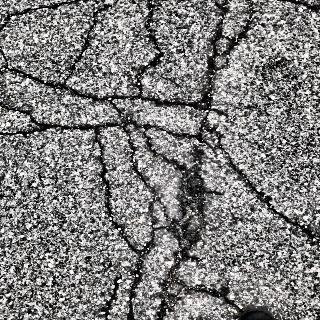alligator-crack: (84, 138, 320, 320), (0, 1, 265, 143)
